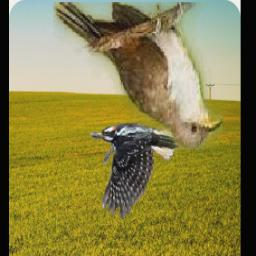Cuckoo: (54, 3, 223, 151)
Woodpecker: (91, 122, 181, 218)
